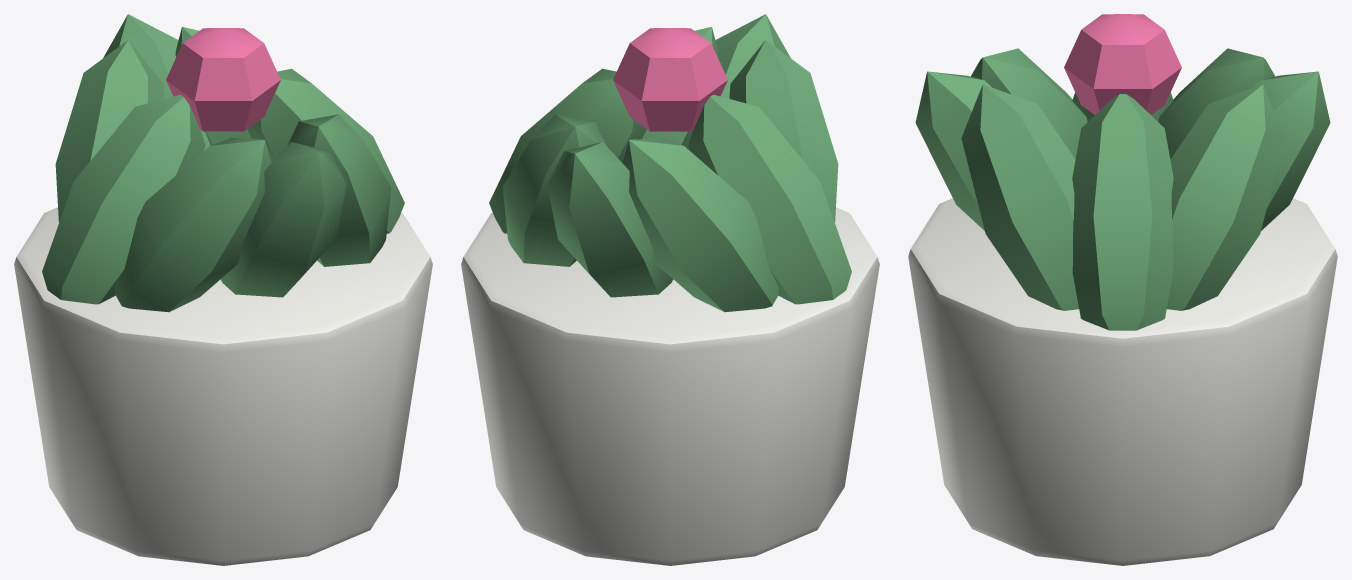
Rendered from RailGarden.fbx.
3 renders of one model, left to right at view 1: azimuth 30°, elevation 25°; view 2: azimuth 150°, elevation 25°; view 3: azimuth 270°, elevation 25°, orthographic. The views are drawn at different scales.
Parts seen in each view (by area): view 1: RailGarden; view 2: RailGarden; view 3: RailGarden.
Boxes of the visible parts, <box> form: RailGarden: <box>14,14,432,565</box>; RailGarden: <box>461,14,879,565</box>; RailGarden: <box>908,14,1337,565</box>.
Size of the model in its own units: 109 by 135 by 109.
